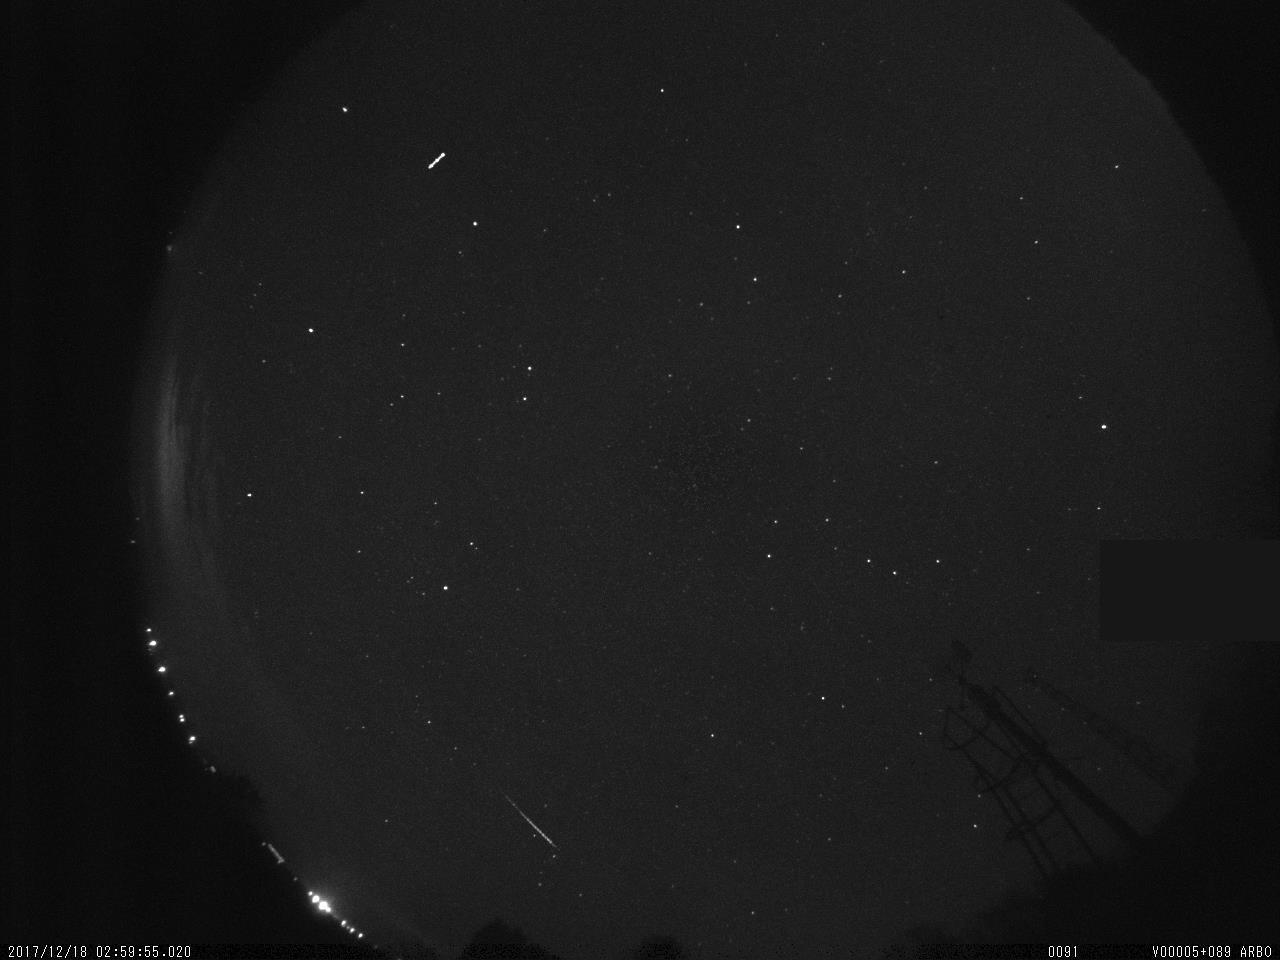meteor: (495, 782, 561, 854)
satelite: (423, 144, 451, 176)
